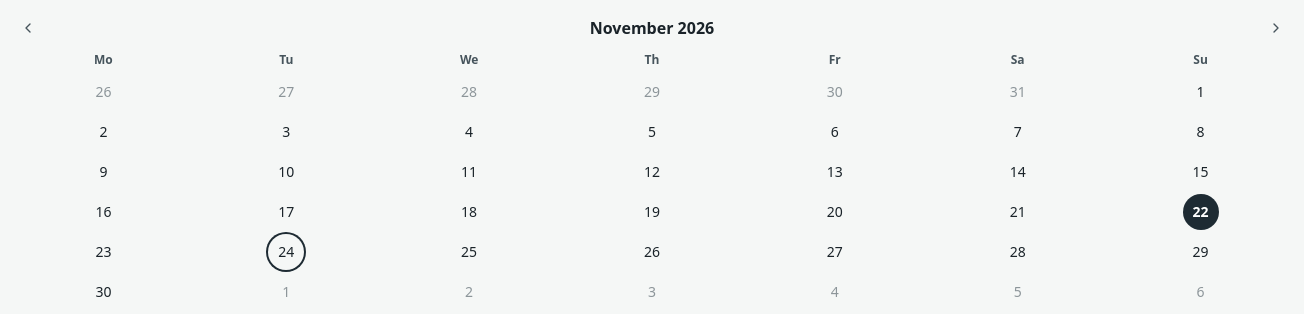
MiniCalendar › month arrows change the month and report the range shown
Click the button named "Next month": (1276, 28) [1260,12,1292,44]
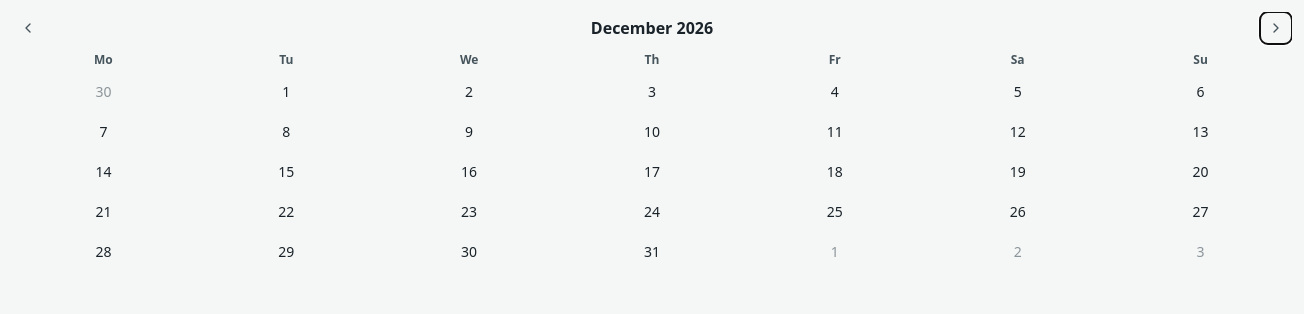
Now the heading "December 2026" is shown, box [591,16,713,40]
Click the button named "Previous month": (28, 28) [12,12,44,44]
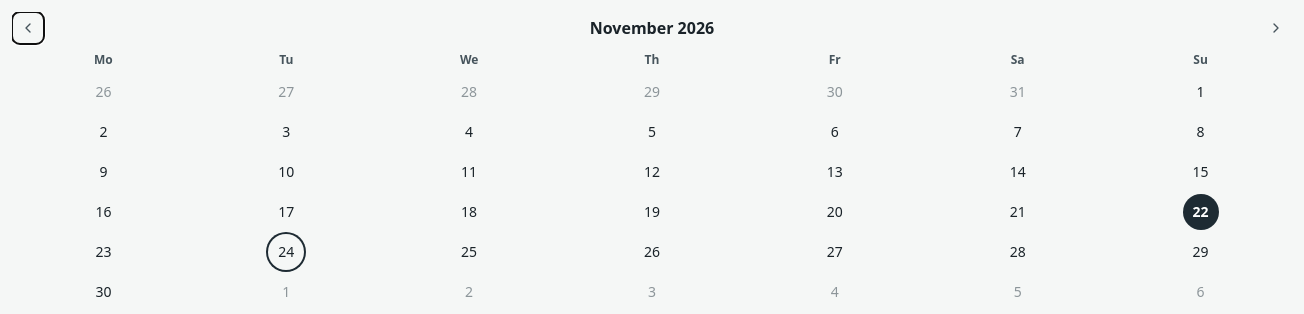
Click the button named "Previous month": (28, 28) [12,12,44,44]
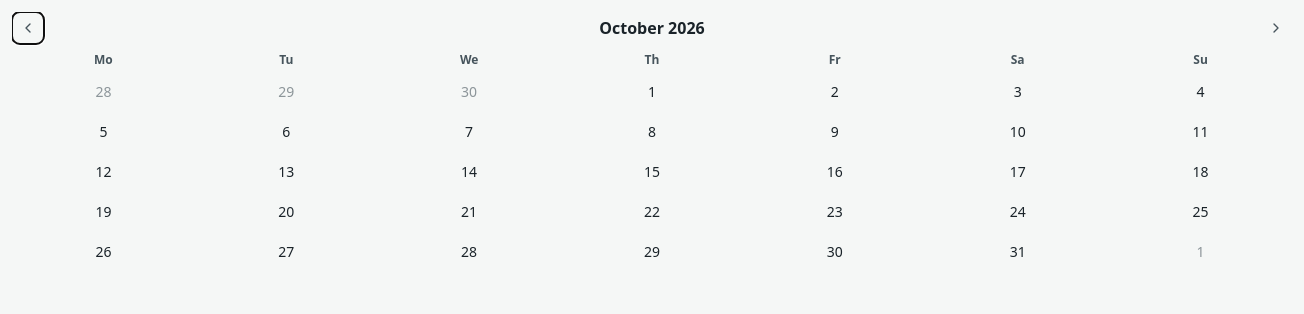
Now the heading "October 2026" is shown, box [599,16,705,40]
